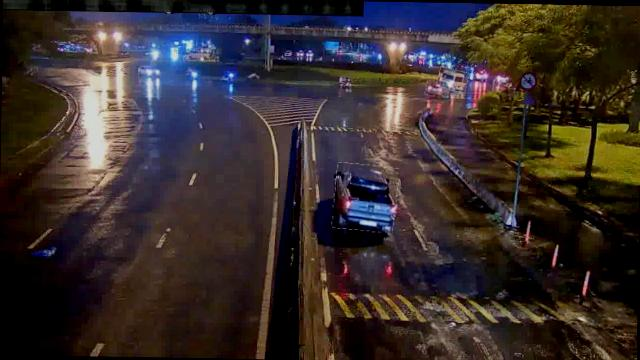Bus: (438, 68, 468, 92)
Car: (333, 163, 398, 232), (426, 82, 449, 96)
